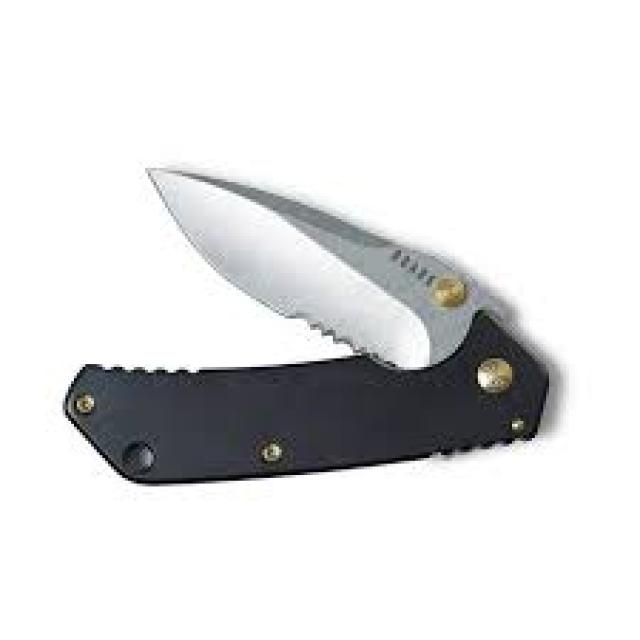knives: (57, 157, 555, 492)
